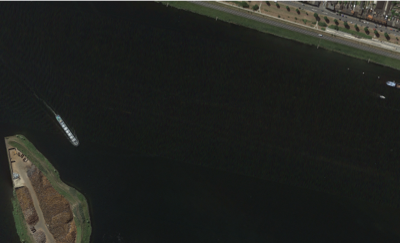boat: (55, 114, 79, 146), (380, 95, 386, 98)
